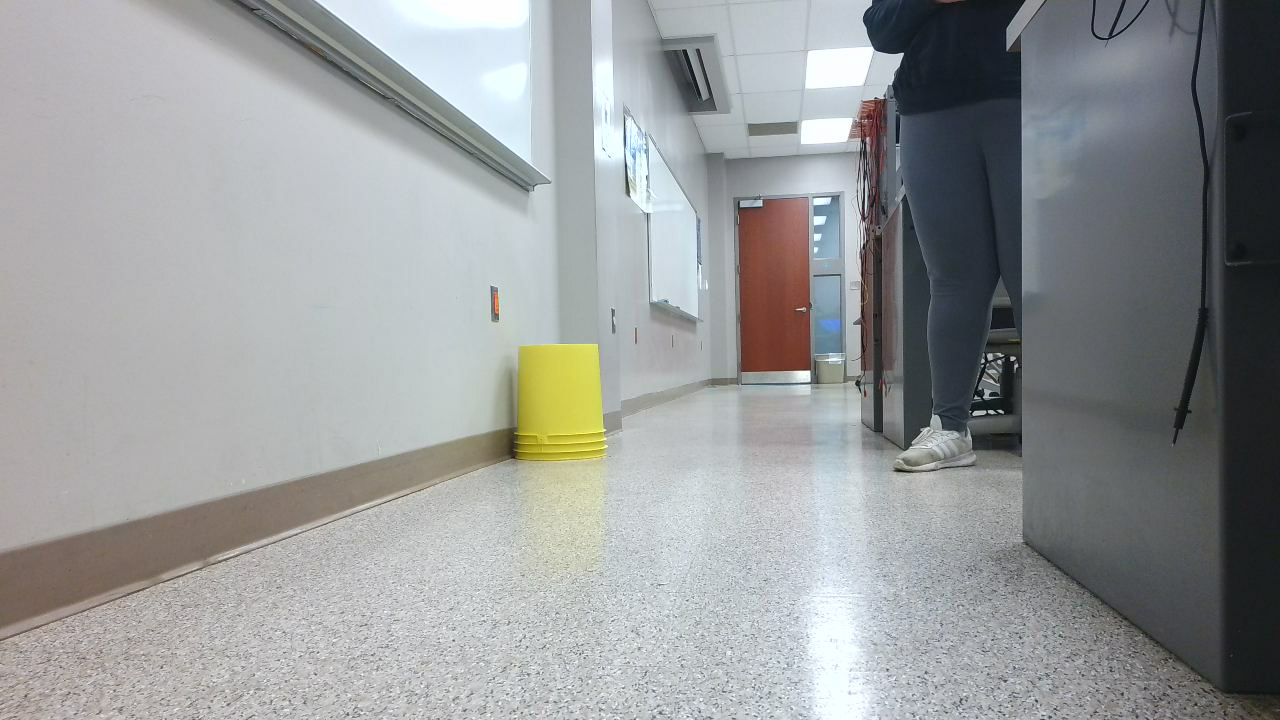yellow_bucket: (511, 344, 620, 473)
